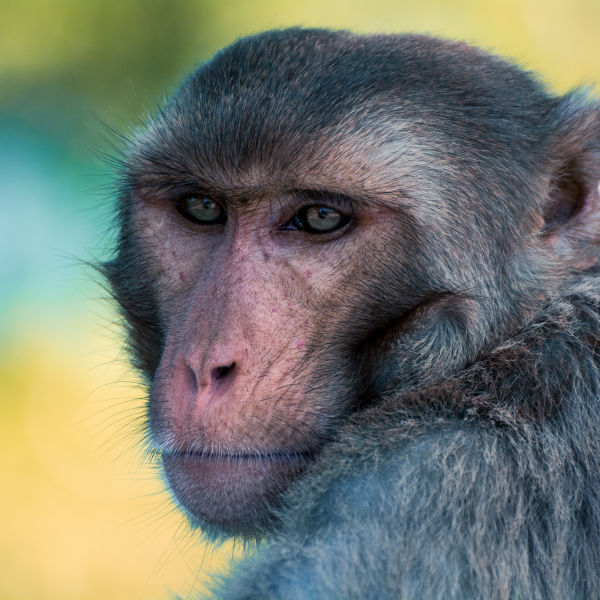monkey: (105, 27, 600, 600)
